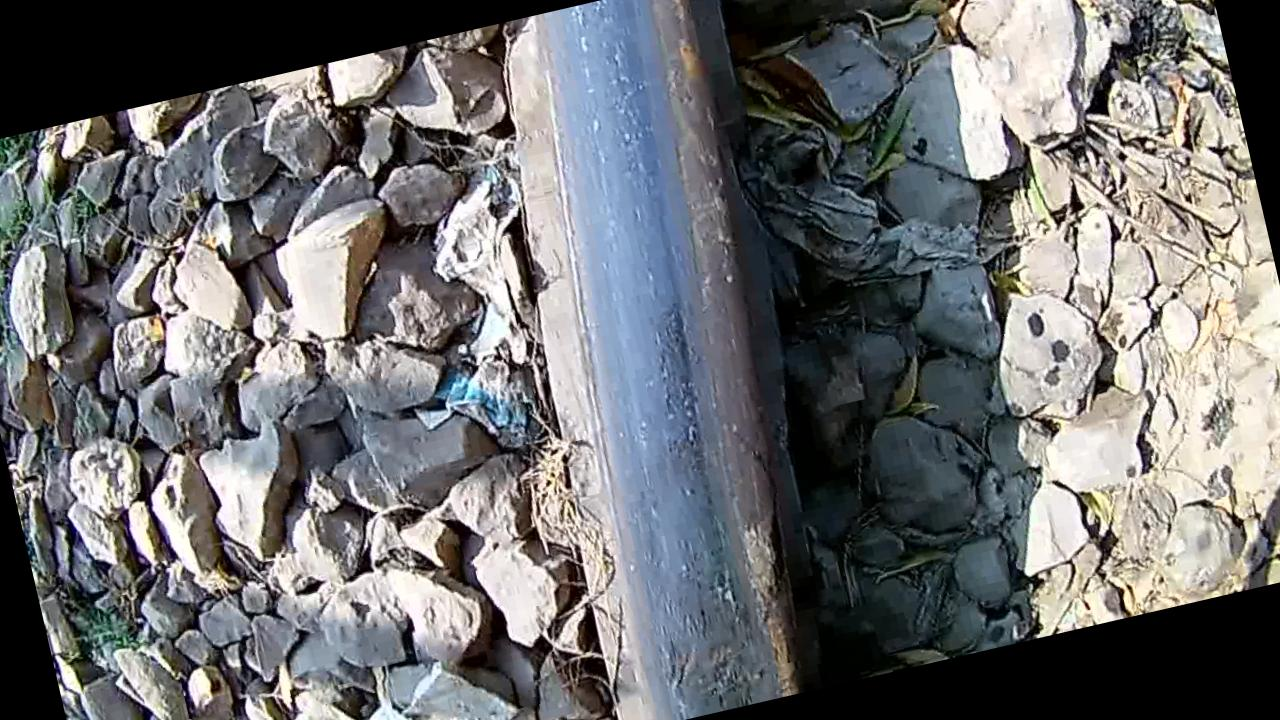bolt_missing: (605, 462, 799, 720)
